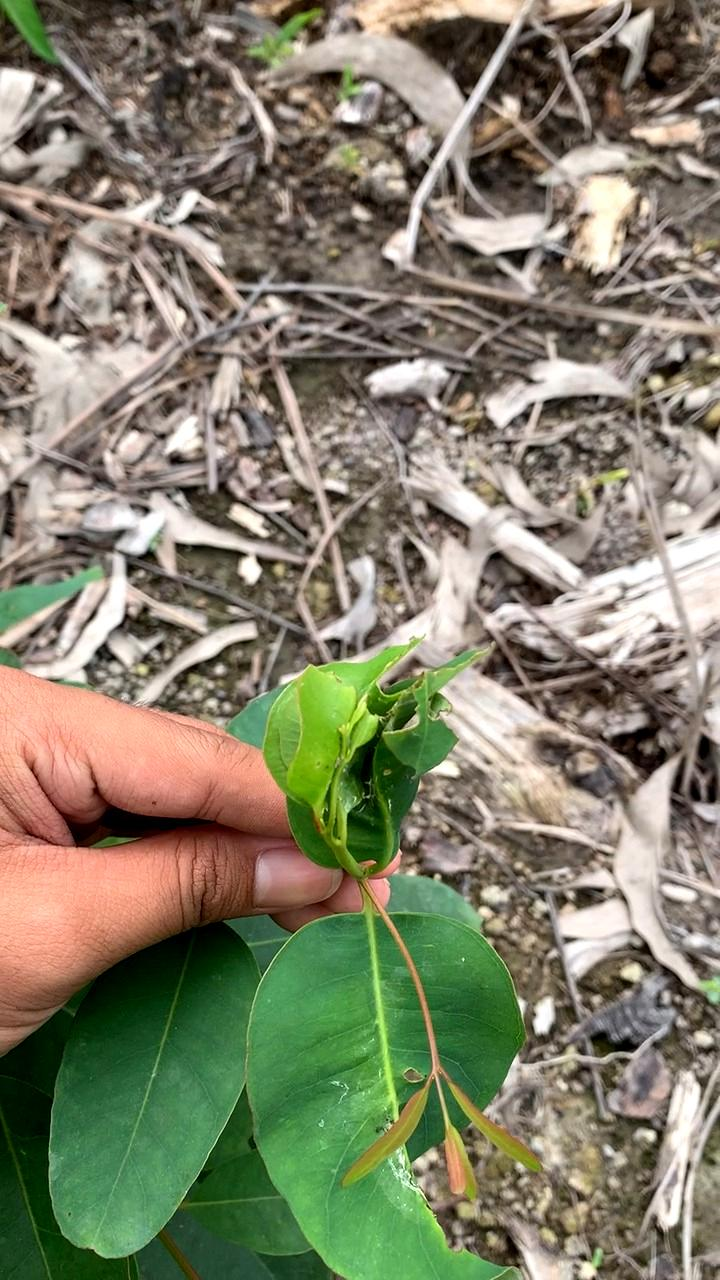Leaf Roller - Leaf: (268, 646, 479, 875)
